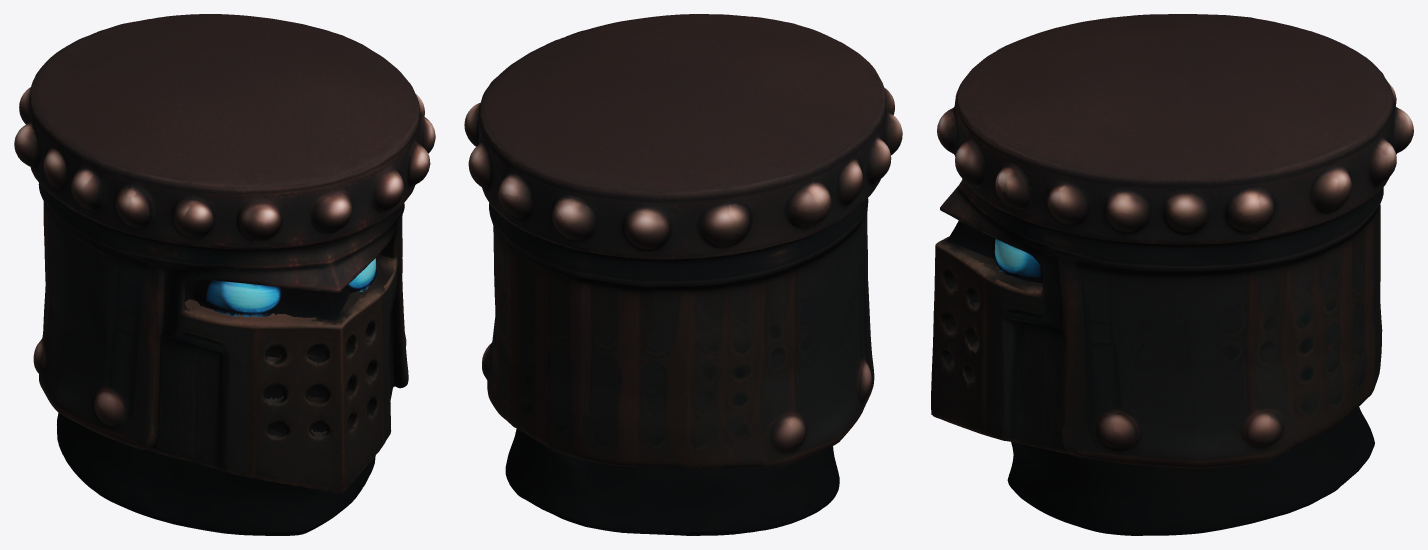
The model's file is knightmask.fbx.
3 views of the same model, side by side, from view 1: azimuth 30°, elevation 25°; view 2: azimuth 150°, elevation 25°; view 3: azimuth 270°, elevation 25° (orthographic). The views are drawn at different scales.
Parts seen in each view (by area): view 1: node_7be5db31_b512_4247_a747_a301e5a0c824_mesh0; view 2: node_7be5db31_b512_4247_a747_a301e5a0c824_mesh0; view 3: node_7be5db31_b512_4247_a747_a301e5a0c824_mesh0.
Part boxes in pixels (x1,y1,x2,y2): node_7be5db31_b512_4247_a747_a301e5a0c824_mesh0: (14,14,435,535); node_7be5db31_b512_4247_a747_a301e5a0c824_mesh0: (464,14,902,535); node_7be5db31_b512_4247_a747_a301e5a0c824_mesh0: (931,14,1413,535).
Bounding box in the file's own units: 135 × 152 × 156.
1 material, 1 textured.
